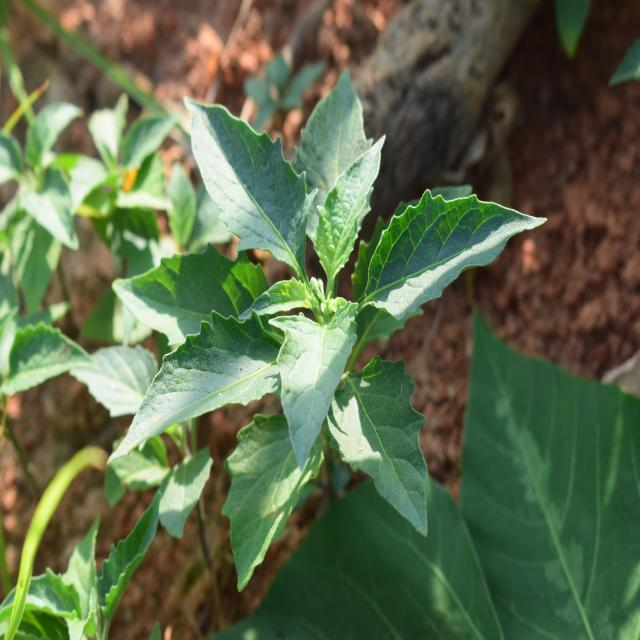Black_nightshade: (159, 111, 500, 501)
